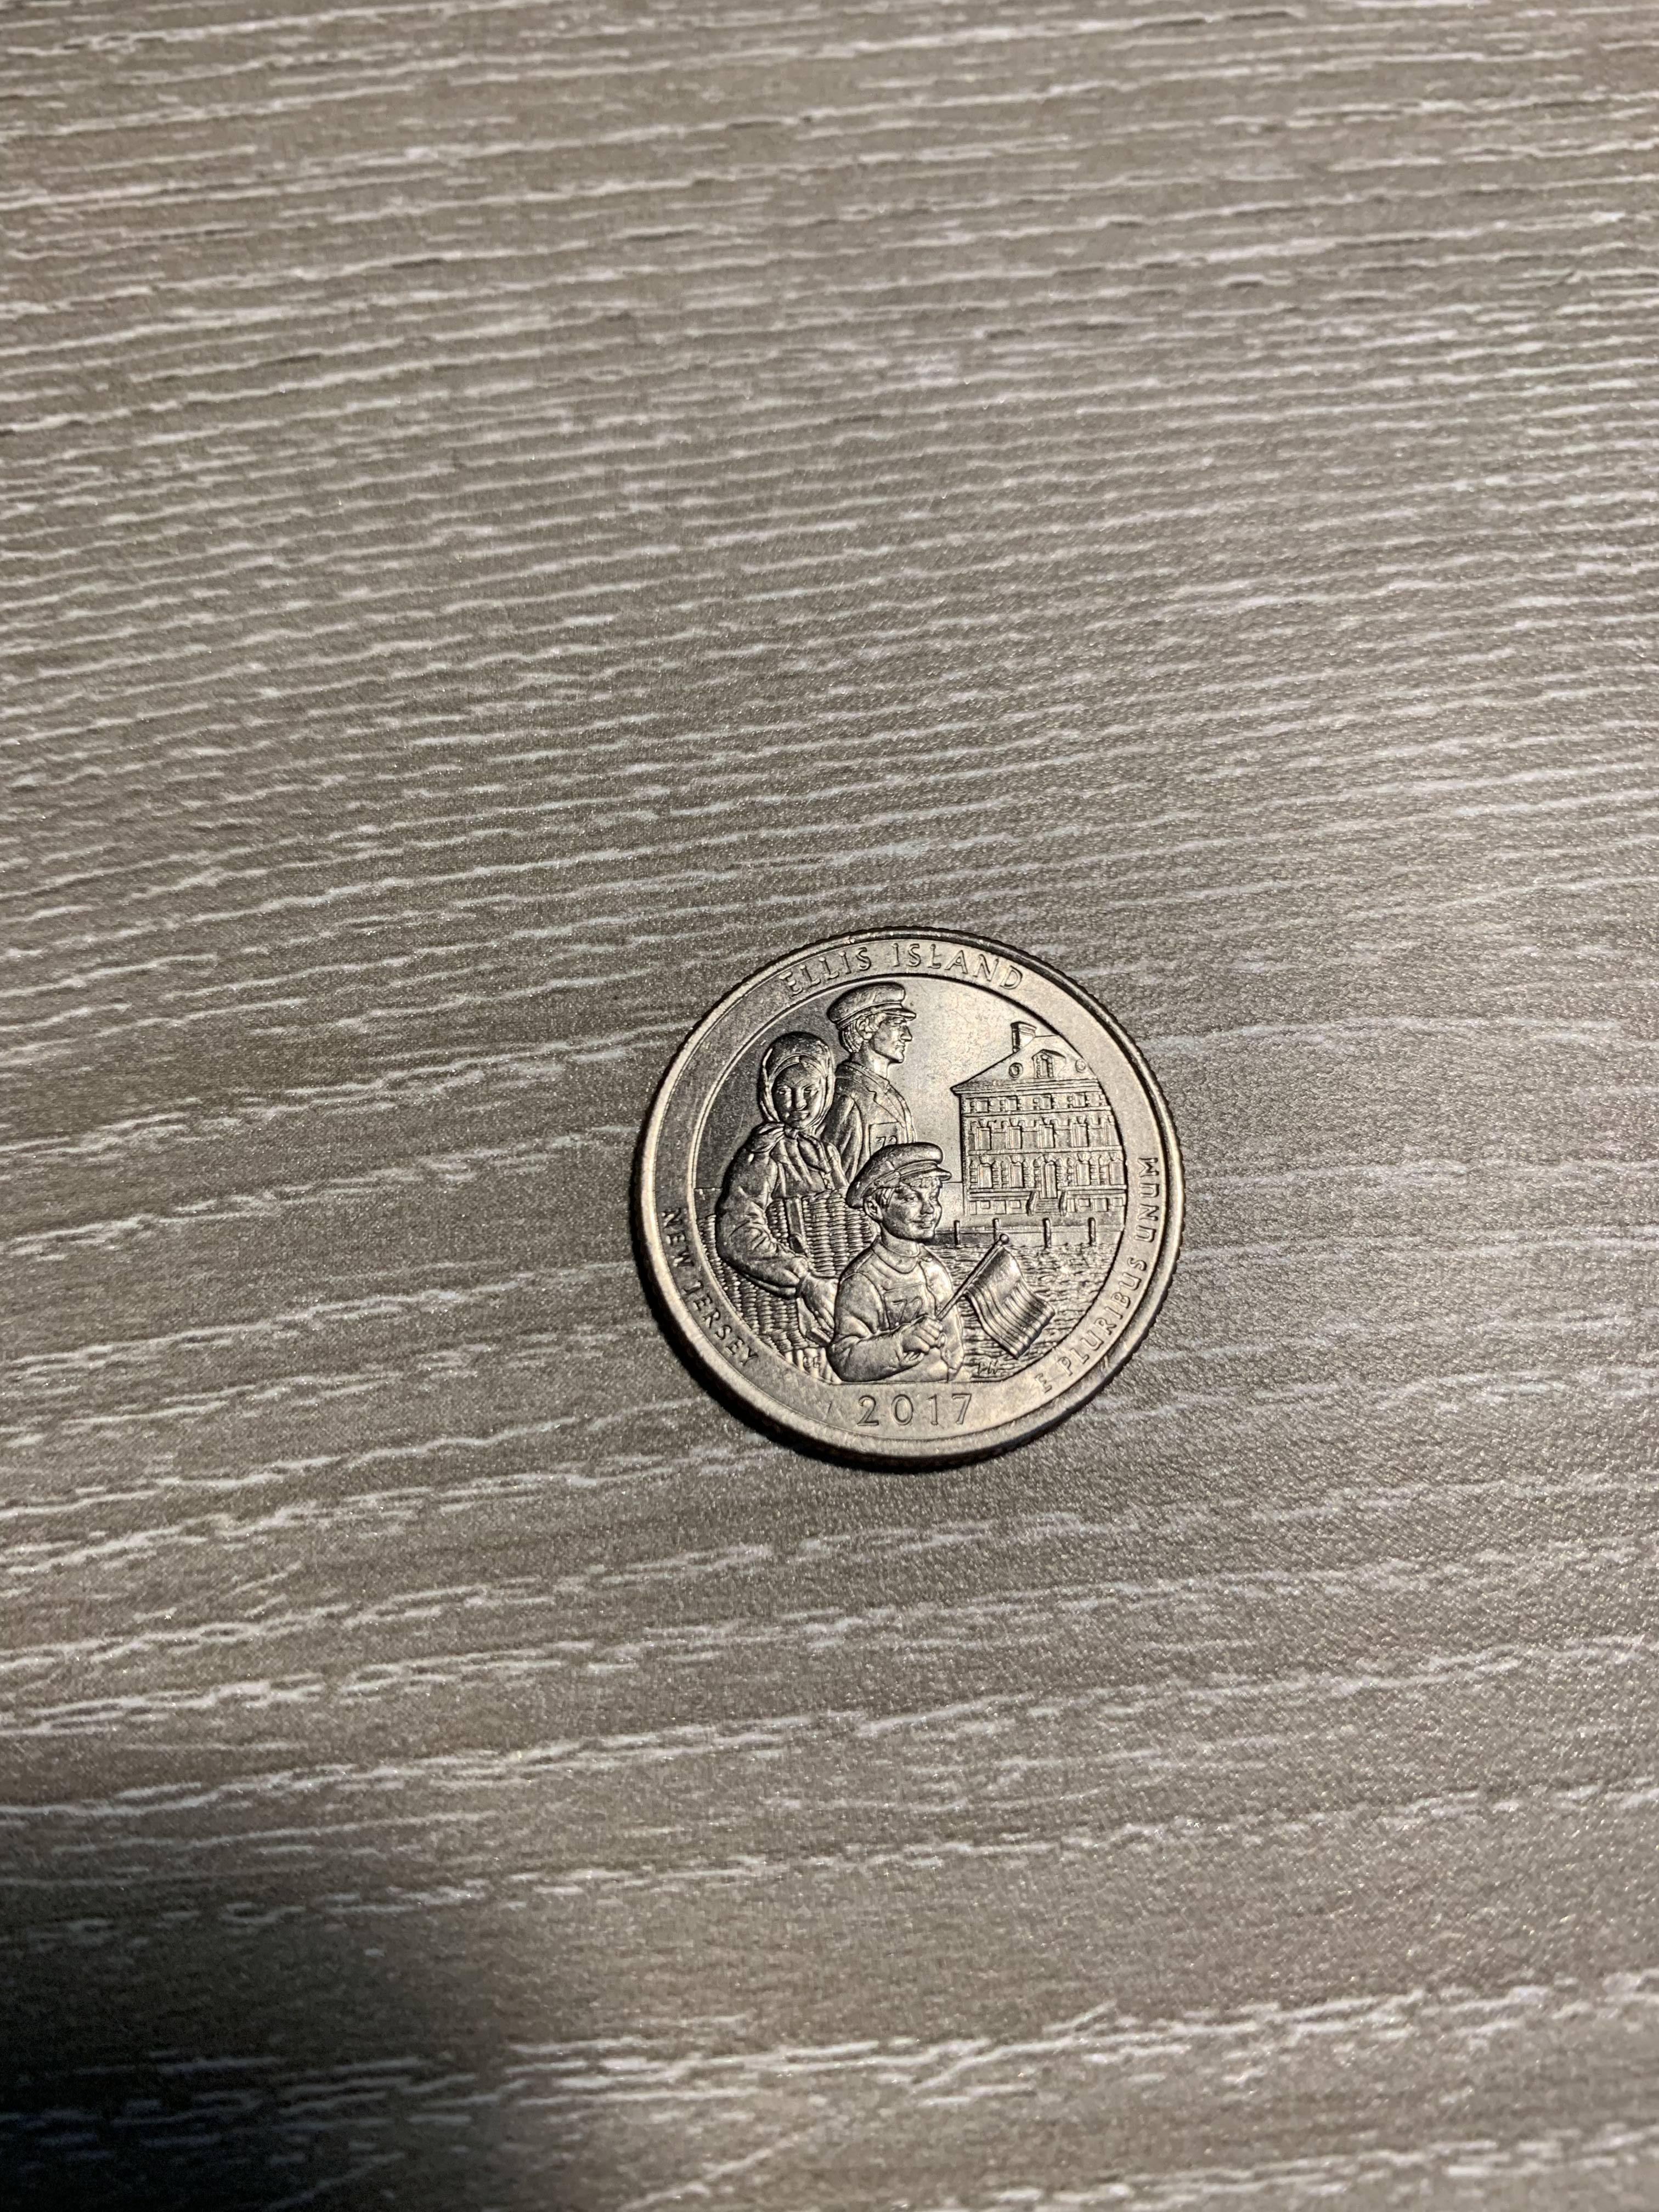Quarter: (596, 911, 1218, 1484)
